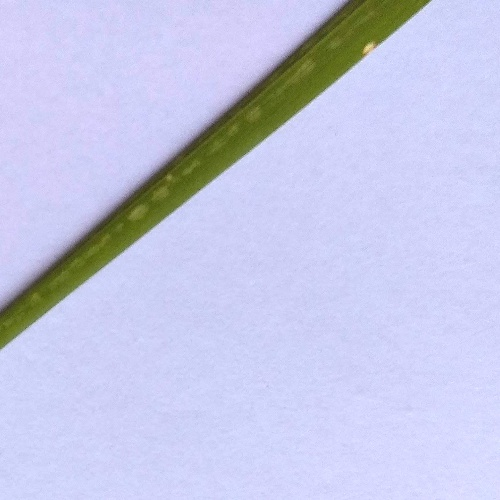Busuk Leher: (353, 30, 388, 63)
